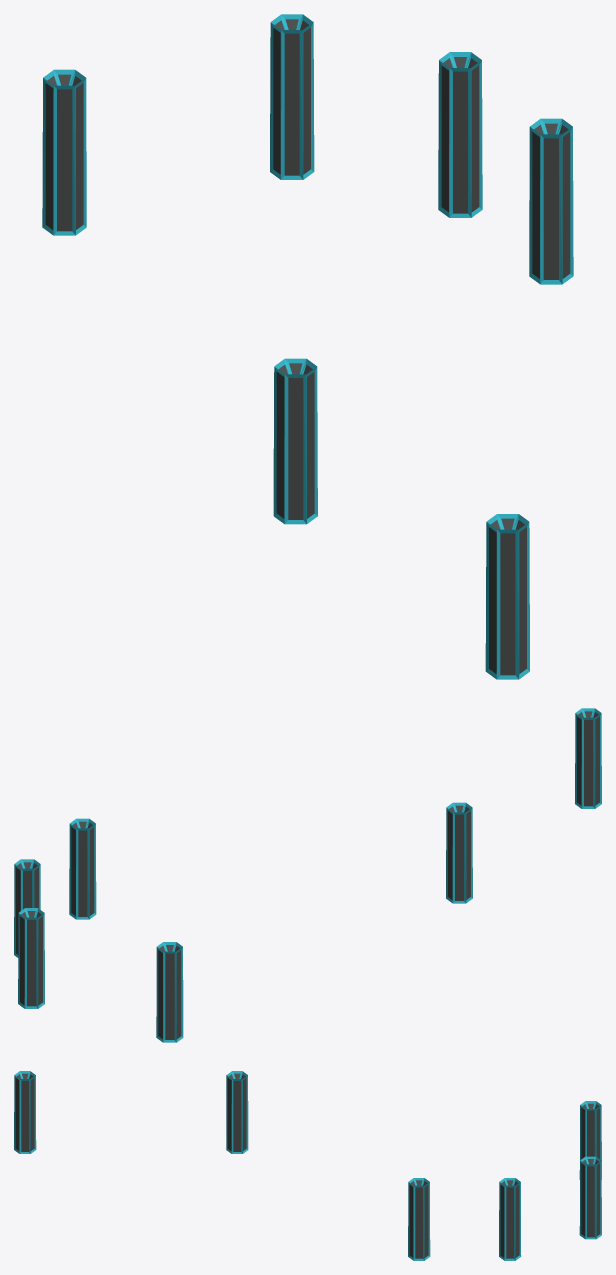
Rendered from struct8.dae.
The picture shows the model from 3 angles, top to bottom: view 1: azimuth 30°, elevation 25°; view 2: azimuth 150°, elevation 25°; view 3: azimuth 270°, elevation 25°; orthographic projection. The views are drawn at different scales.
Parts seen in each view (by area): view 1: Export_struct8_a, Export_struct8_b; view 2: Export_struct8_a, Export_struct8_b; view 3: Export_struct8_a, Export_struct8_b.
Boxes of the visible parts, left/top/right/bottom form: Export_struct8_a: left=45, top=19, right=570, bottom=675; Export_struct8_b: left=42, top=14, right=573, bottom=679; Export_struct8_a: left=16, top=711, right=599, bottom=1039; Export_struct8_b: left=14, top=708, right=601, bottom=1042; Export_struct8_a: left=15, top=1073, right=600, bottom=1258; Export_struct8_b: left=14, top=1071, right=601, bottom=1260.
Size of what is drawn, in the model's own units: 53.81 by 116 by 16.36.
